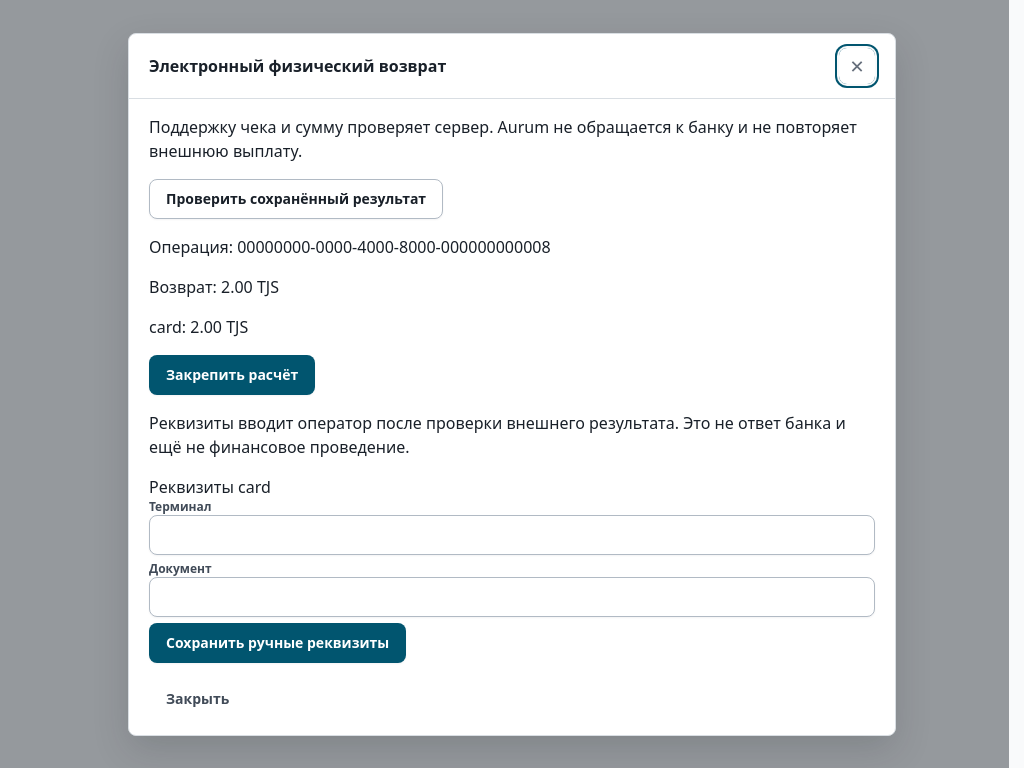
evidence and posting UI › requires every electronic part before post and validates manual evidence
This screenshot has width=1024, height=768.
Expected: the field named "Терминал 1" is shown, [149,514,875,554]
Expected: the button "Провести возврат" is not shown
Step 1. Click the button "Сохранить ручные реквизиты" → (278, 642), box [149,622,406,662]
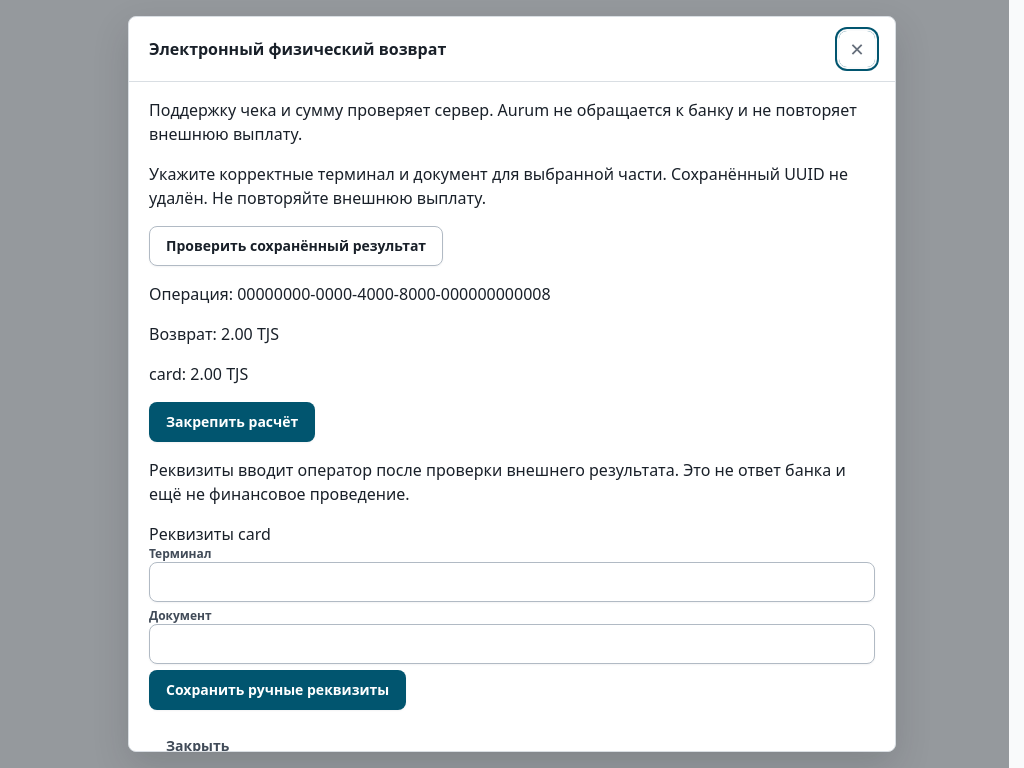
Now the message is shown, box [149,162,875,210]
Step 2. Type " TEST " into the field named "Терминал 1" → (512, 582), box [149,562,875,602]
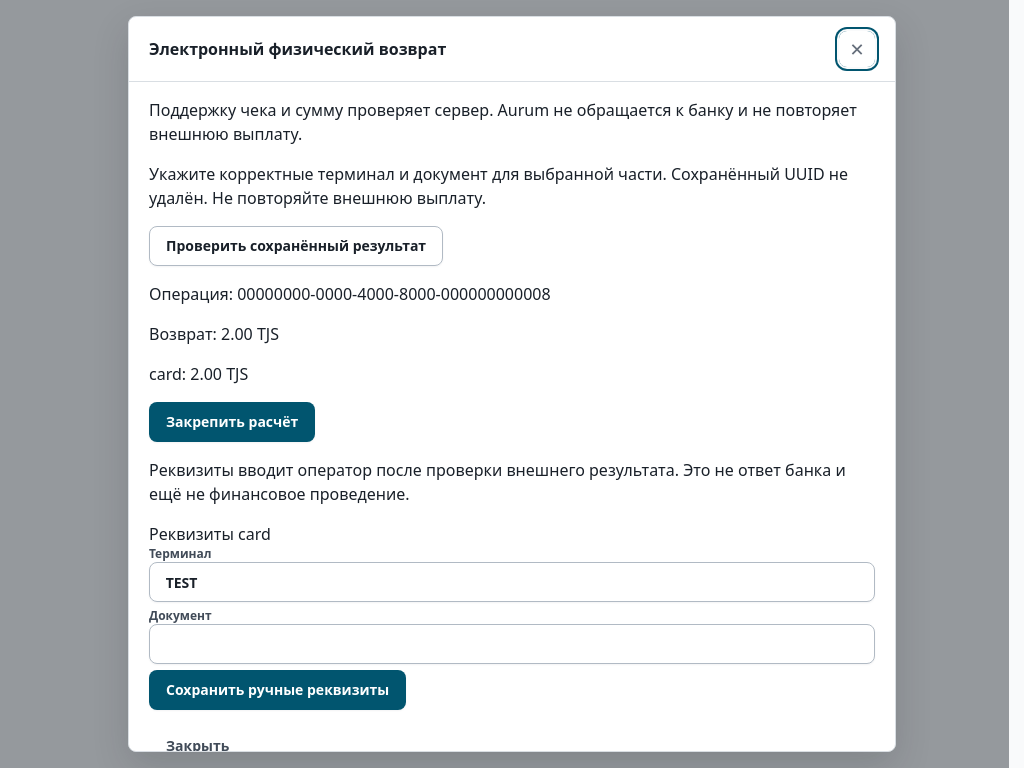
Step 3. Type " DOC " into the field named "Документ 1" → (512, 644), box [149,624,875,664]
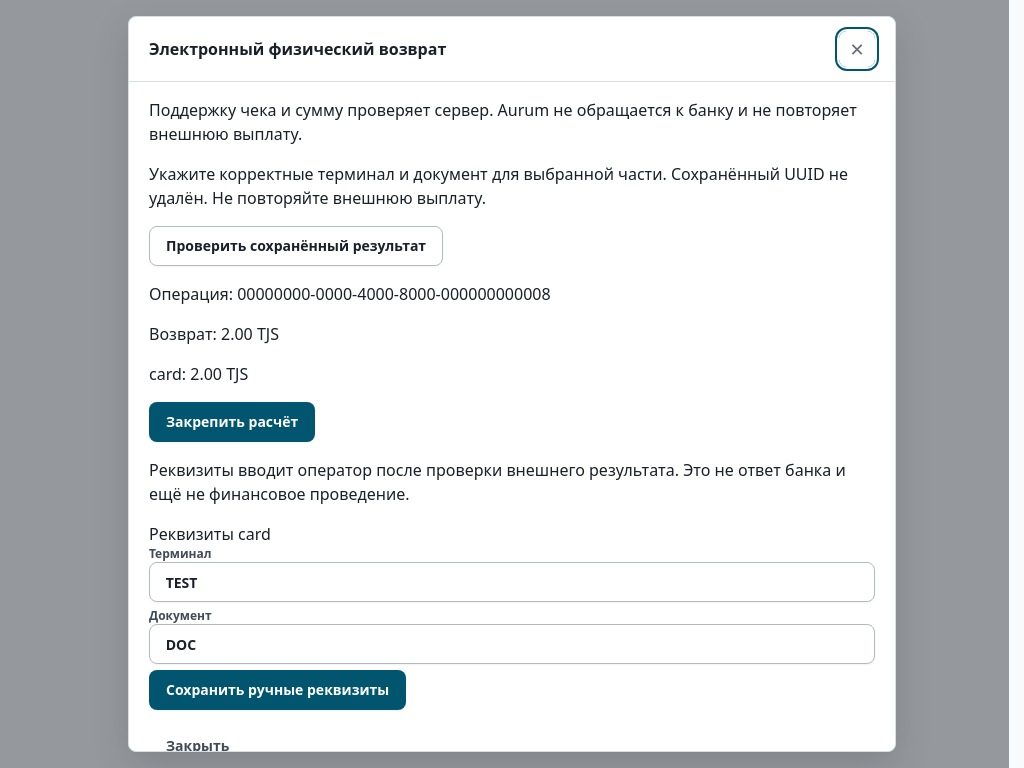
Step 4. Click the button "Сохранить ручные реквизиты" → (278, 690), box [149,670,406,710]
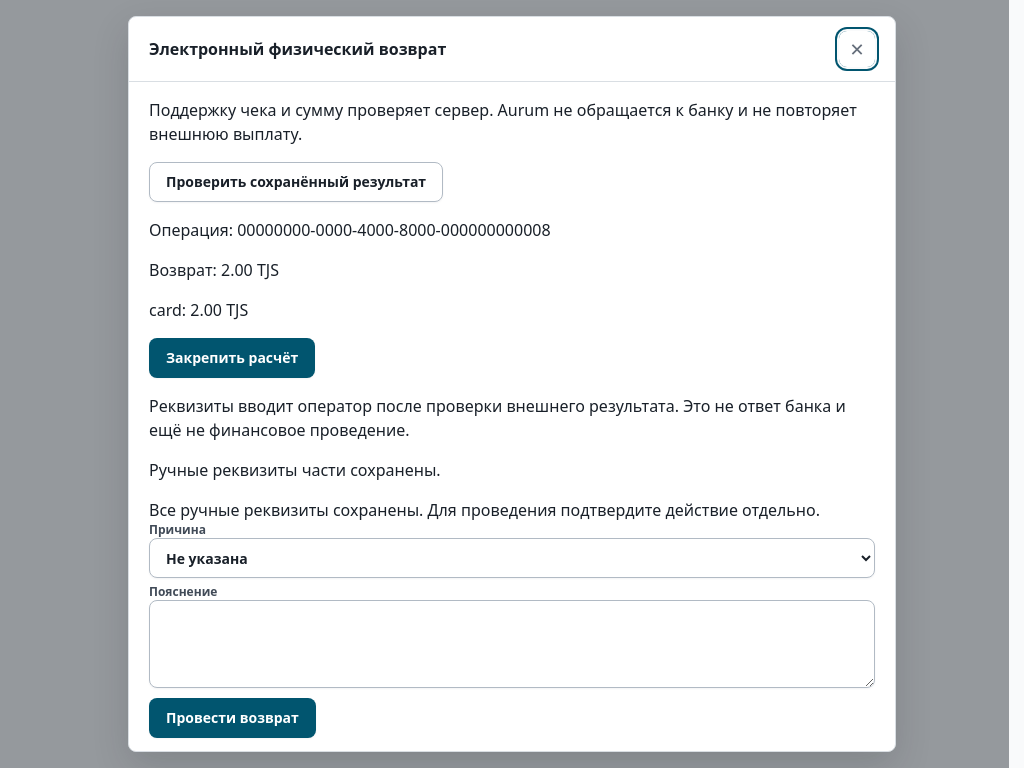
Expected: the text "Это не ответ банка" is shown, [149,395,846,441]
Now the button "Провести возврат" is shown, box [149,698,316,738]
